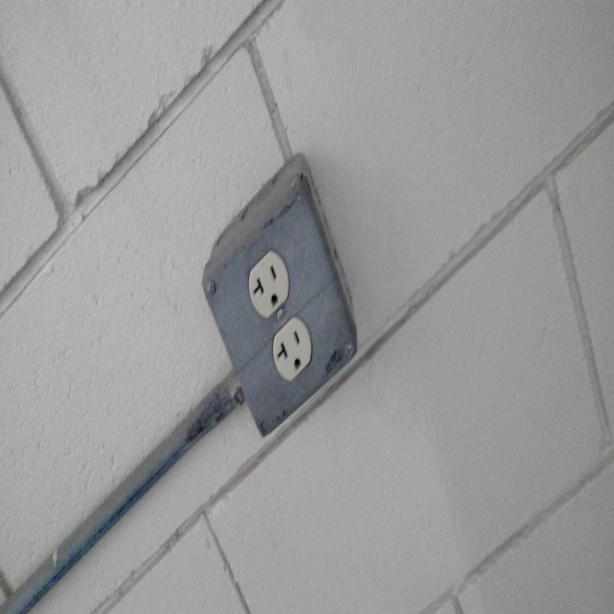typeb: (250, 260, 286, 312), (274, 327, 307, 376)
